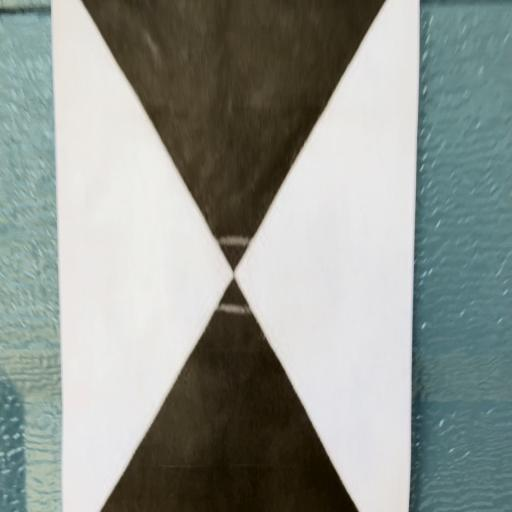target: (51, 0, 420, 512)
